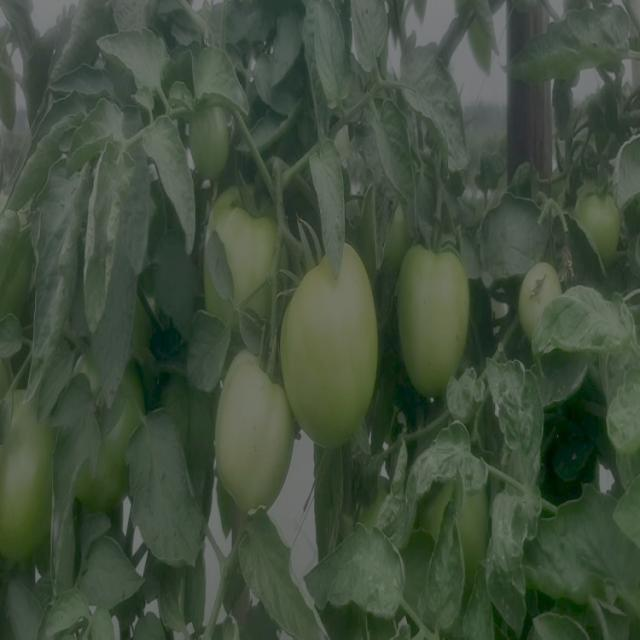tomato: (285, 230, 392, 438), (207, 346, 308, 516), (400, 228, 475, 394), (198, 190, 282, 313), (1, 385, 61, 551), (67, 370, 146, 488), (429, 452, 494, 564), (3, 201, 42, 325), (186, 97, 238, 180), (516, 258, 566, 342), (578, 185, 627, 265)
